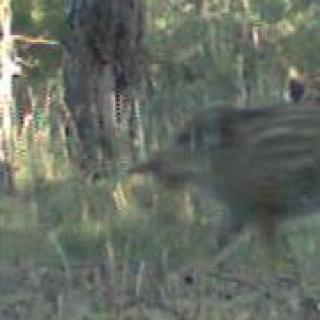Pig: (137, 87, 320, 283)
